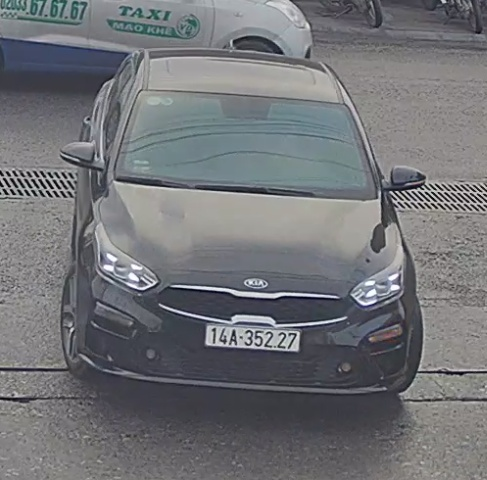vehicle plate: (200, 318, 307, 354)
